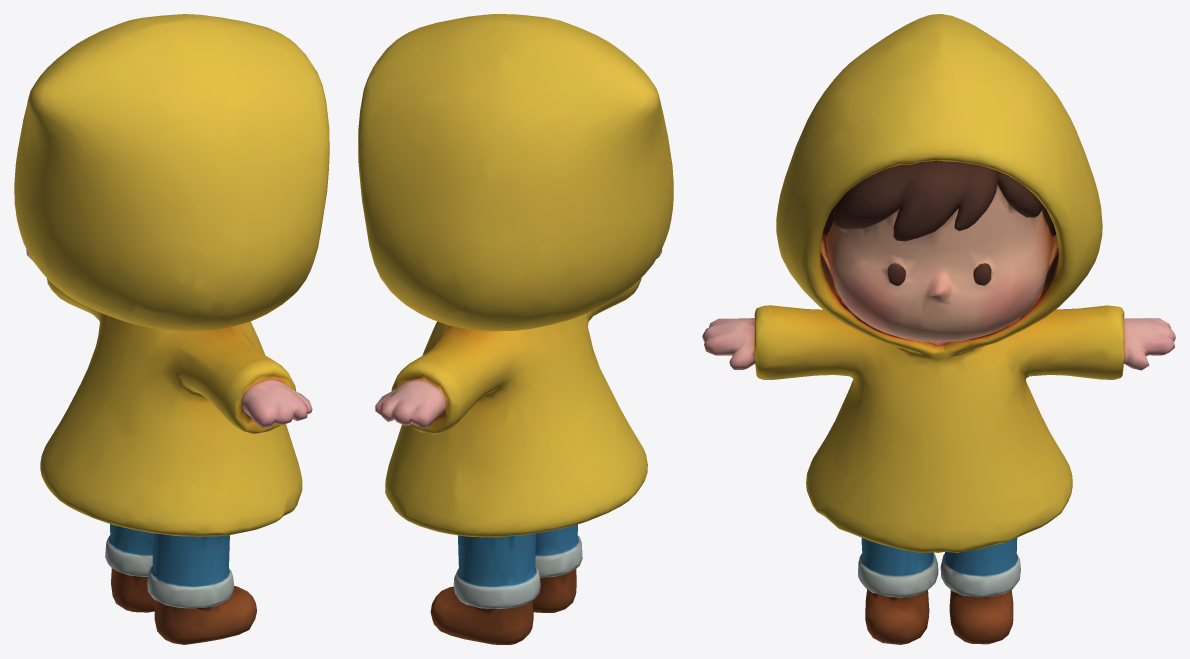
Rendered from child.glb.
The picture shows the model from 3 angles, left to right: view 1: azimuth 30°, elevation 25°; view 2: azimuth 150°, elevation 25°; view 3: azimuth 270°, elevation 25°; orthographic projection. The views are drawn at different scales.
Parts seen in each view (by area): view 1: tripo_node_e797b2b4-bae7-417e-a1db-90fb12310558; view 2: tripo_node_e797b2b4-bae7-417e-a1db-90fb12310558; view 3: tripo_node_e797b2b4-bae7-417e-a1db-90fb12310558.
Boxes of the visible parts, bbox=[...] form: tripo_node_e797b2b4-bae7-417e-a1db-90fb12310558: bbox=[14, 14, 329, 644]; tripo_node_e797b2b4-bae7-417e-a1db-90fb12310558: bbox=[358, 14, 673, 644]; tripo_node_e797b2b4-bae7-417e-a1db-90fb12310558: bbox=[702, 14, 1175, 644].
Bounding box in the file's own units: 0.4596 × 1 × 0.7398.
Materials: 1 (1 with a texture image).
